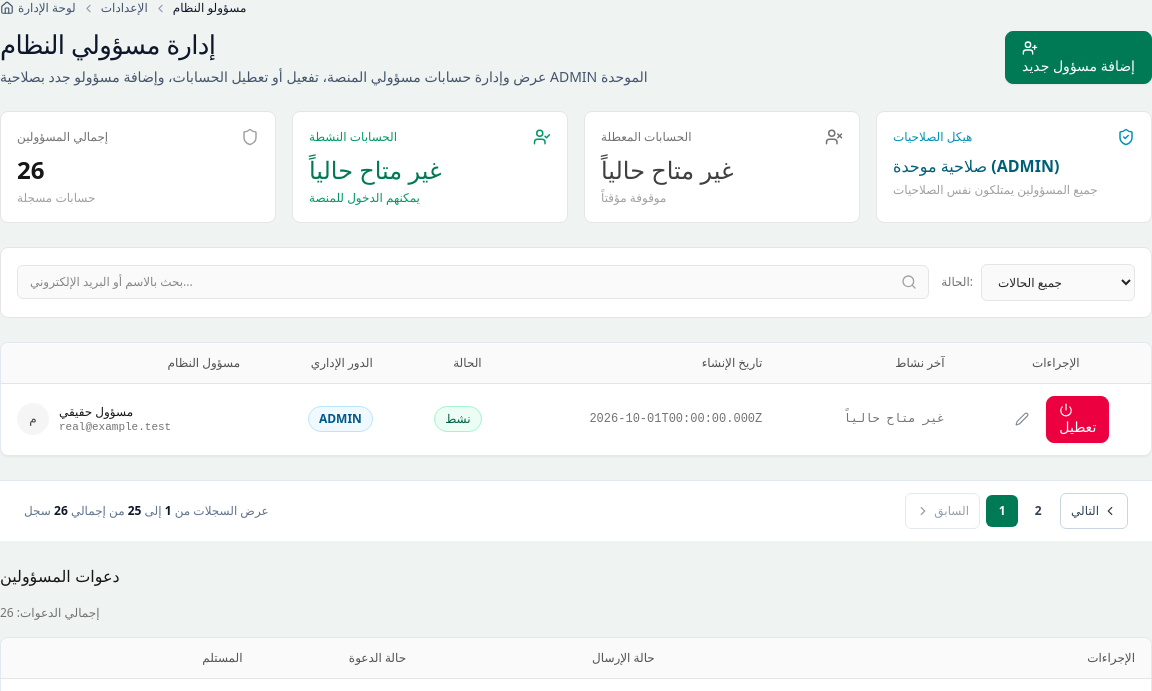
it: refreshes a stale target while retaining the reason and never claims command success
Expected: the text "مسؤول حقيقي" is shown, [59,404,133,420]
Click the button "تعطيل". click: [1078, 419]
box: [1046,396,1109,443]
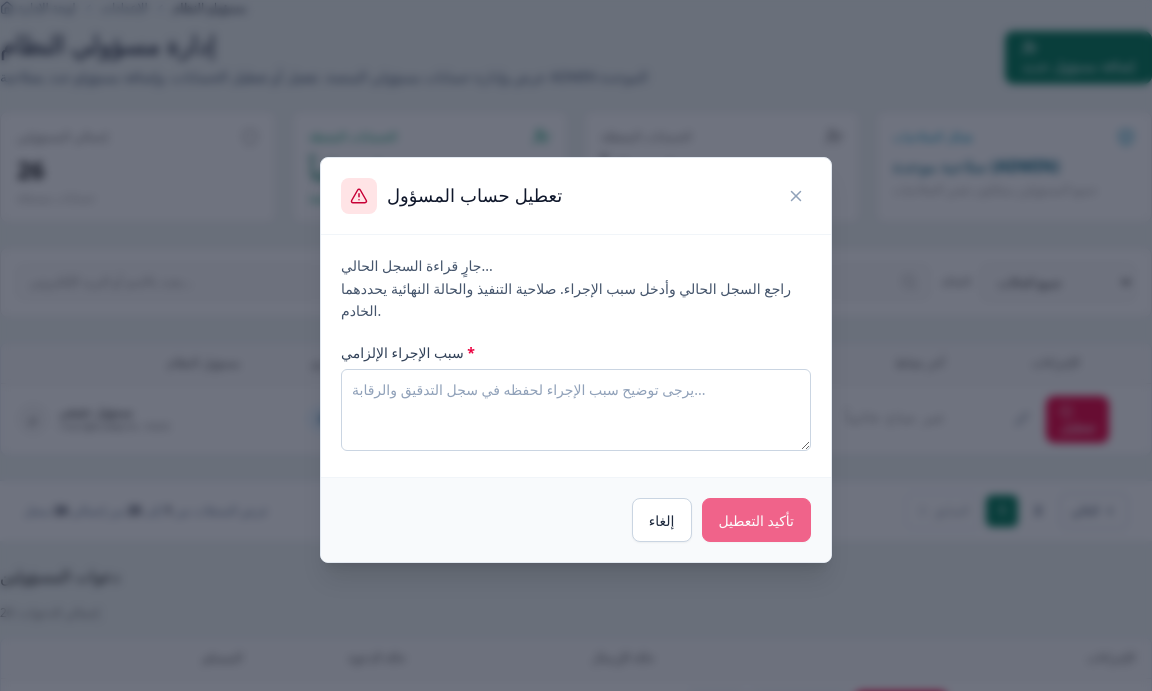
Type "سبب محفوظ" into the text box labelled "سبب الإجراء الإلزامي *". click: [576, 410]
box: [341,369,811,451]
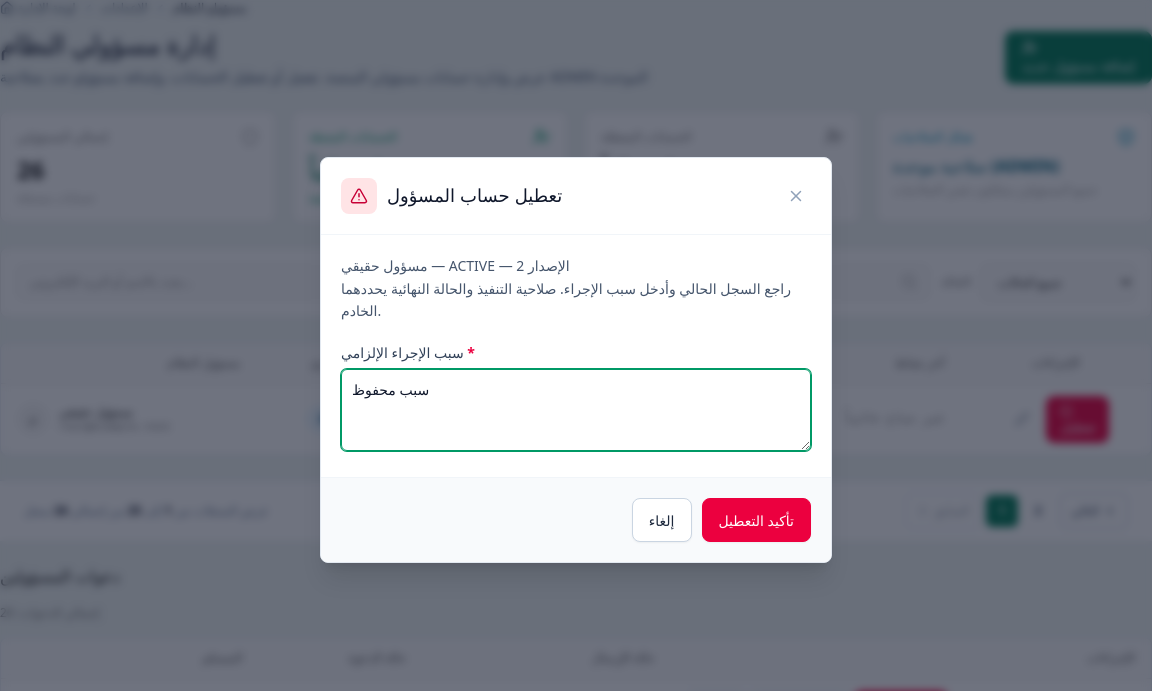
Expected: the button "تأكيد التعطيل" is enabled
Click the button "تأكيد التعطيل". click: [756, 520]
box: [702,498,811,542]
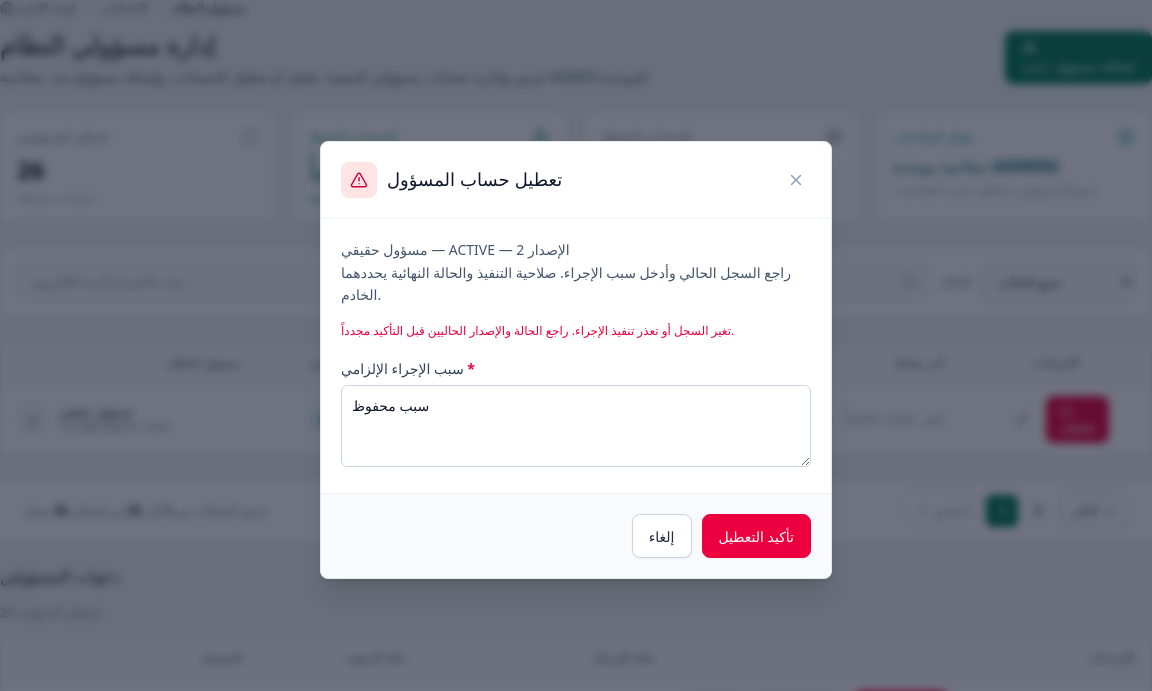
Expected: the text "تغير السجل أو تعذر تنفيذ الإجراء" is shown, [341,322,734,339]
